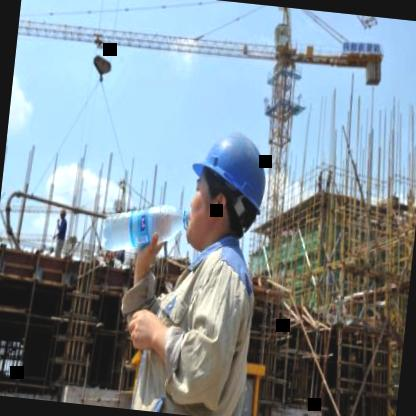helmet: (183, 116, 278, 248)
